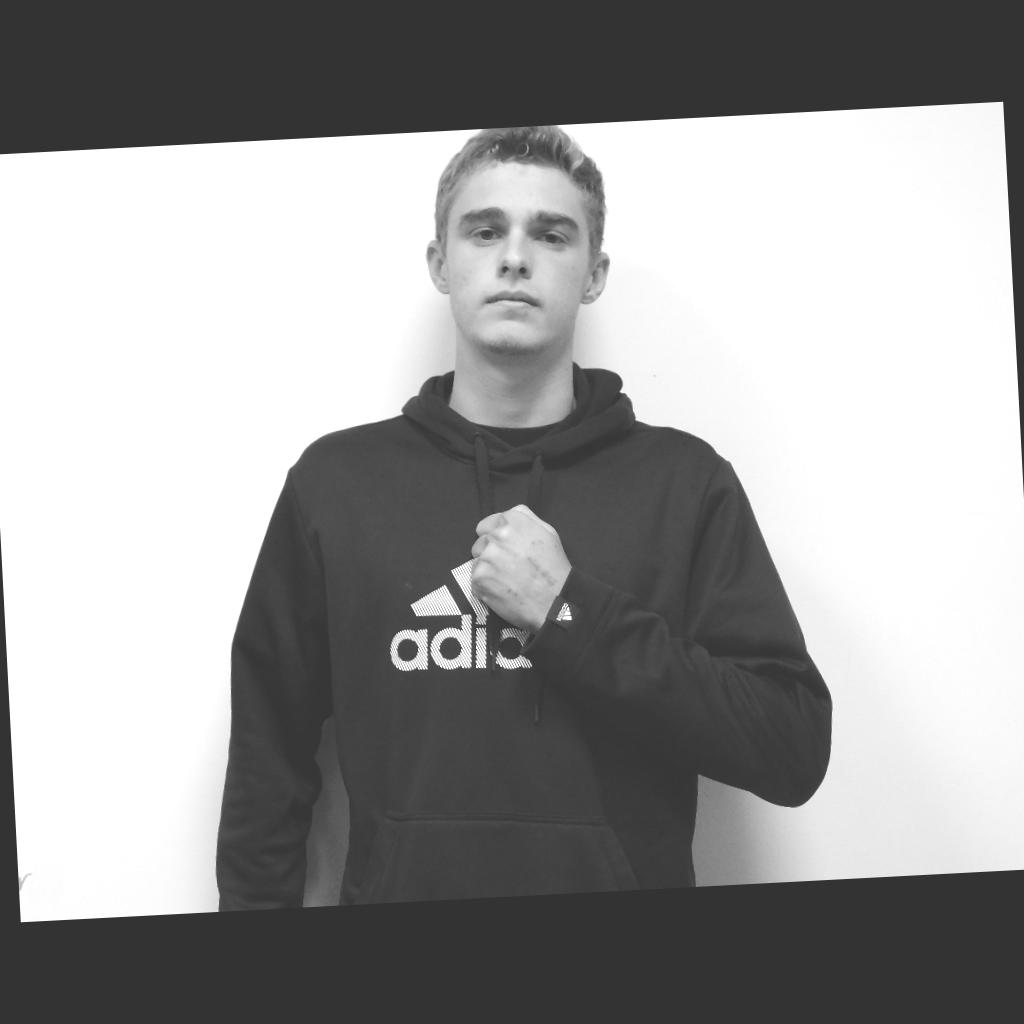sorry: (470, 502, 570, 630)
